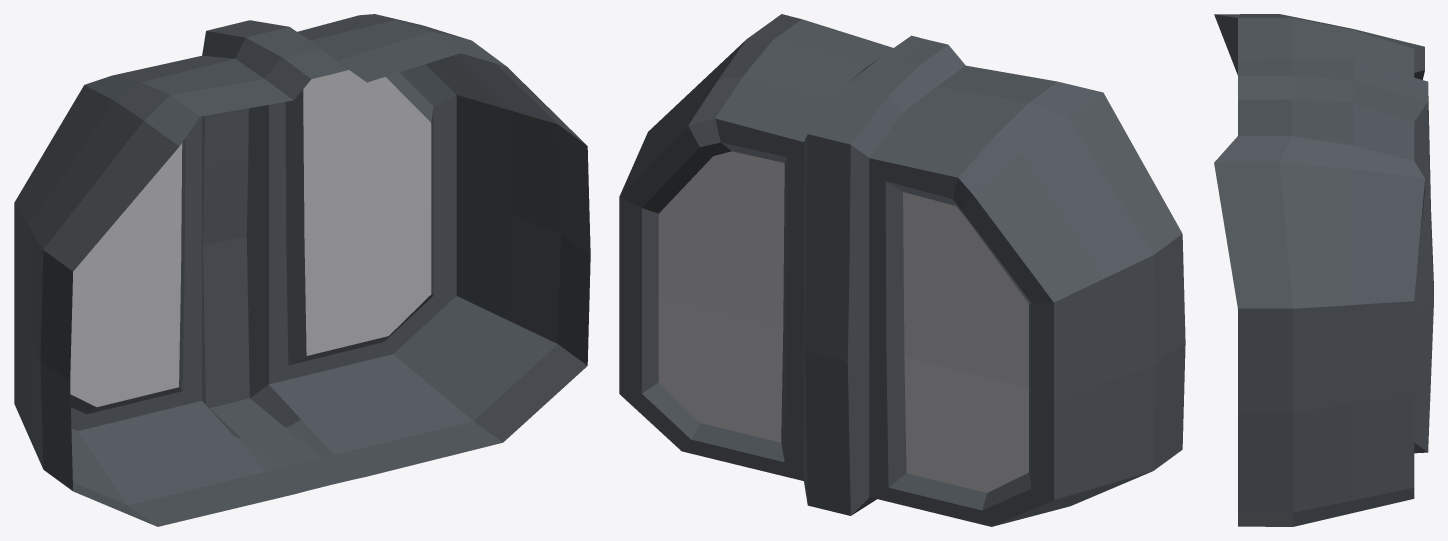
File: Fighter_10_End_Cap.fbx
3 views of the same model, side by side, from view 1: azimuth 30°, elevation 25°; view 2: azimuth 150°, elevation 25°; view 3: azimuth 270°, elevation 25° (orthographic). The views are drawn at different scales.
Visible parts, largest first — view 1: Fighter_10_End_Cap; view 2: Fighter_10_End_Cap; view 3: Fighter_10_End_Cap.
Part boxes in pixels (x1,y1,x2,y2): Fighter_10_End_Cap: (14, 14, 590, 526); Fighter_10_End_Cap: (619, 14, 1185, 526); Fighter_10_End_Cap: (1214, 14, 1433, 526).
Bounding box in the file's own units: 788 × 596 × 311.
Materials: 1 (1 with a texture image).
